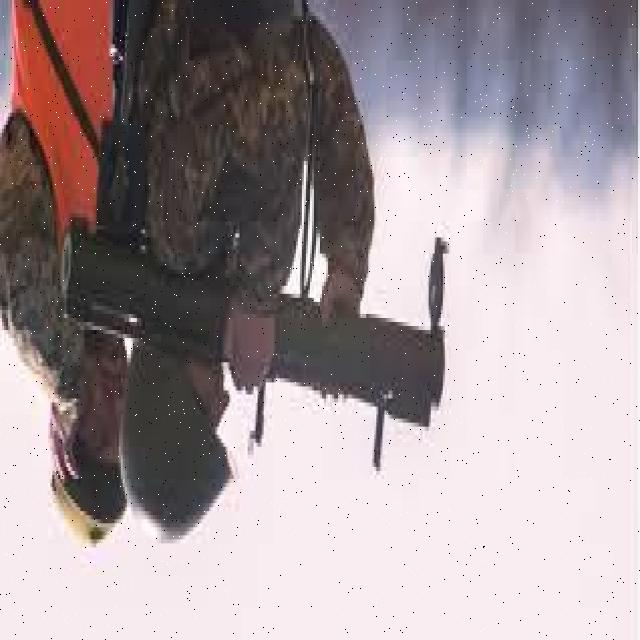bazooka: (62, 199, 452, 490)
